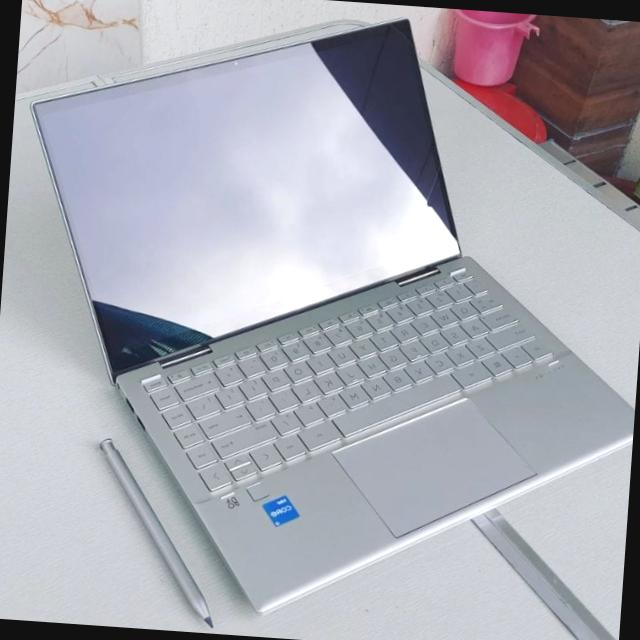laptop: (0, 0, 640, 614)
